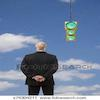green: (53, 25, 83, 69)
